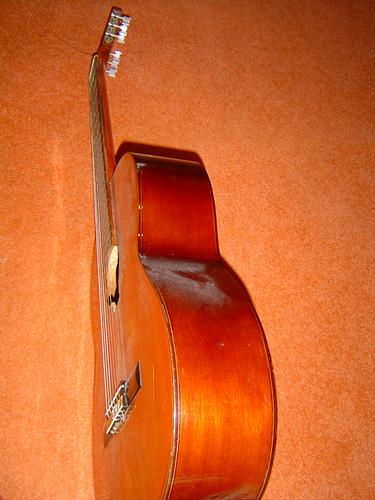guitar: (85, 9, 275, 500)
